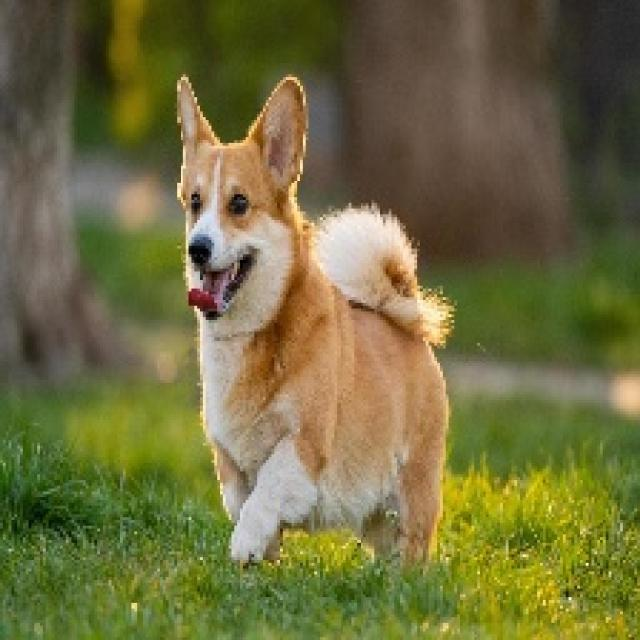animal: (134, 75, 530, 607)
